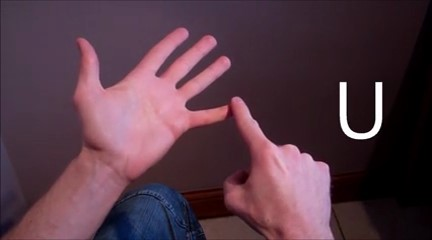U: (66, 15, 337, 240)
